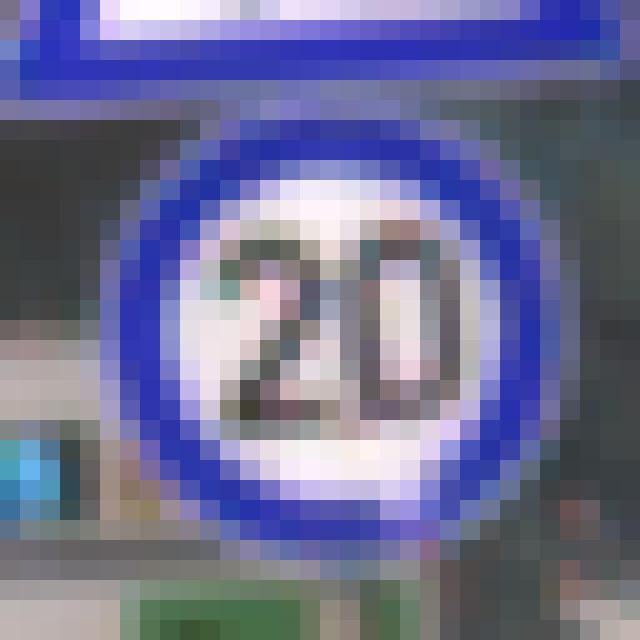SPEED LIMIT 20: (80, 113, 588, 559)
